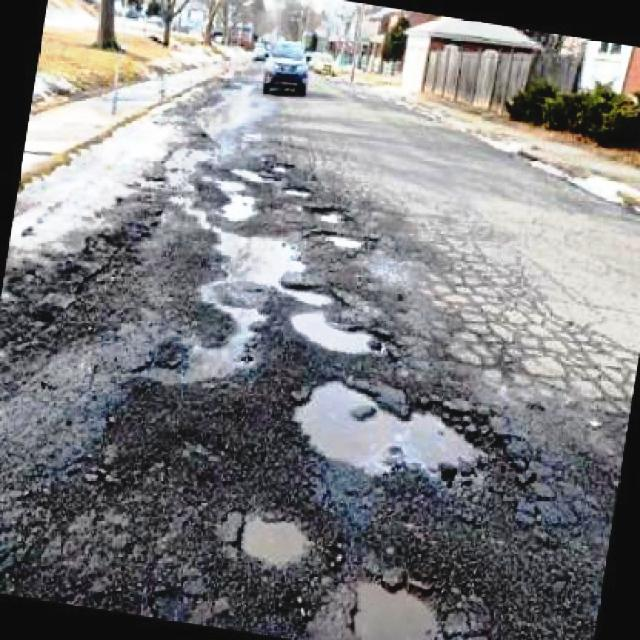pothole: (292, 365, 505, 486), (206, 220, 345, 312), (137, 302, 275, 391), (341, 564, 470, 640), (220, 498, 326, 570), (289, 303, 403, 360), (203, 168, 271, 220), (314, 230, 372, 256), (311, 202, 346, 224), (284, 180, 316, 202)
